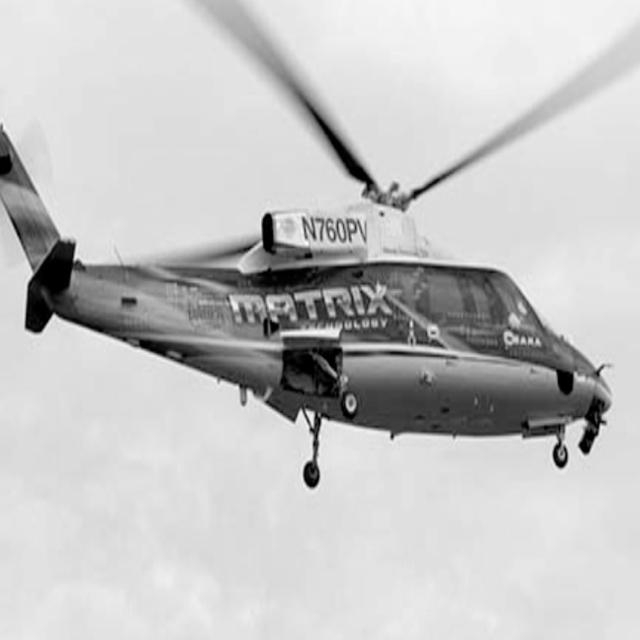helicopter: (1, 1, 640, 488)
